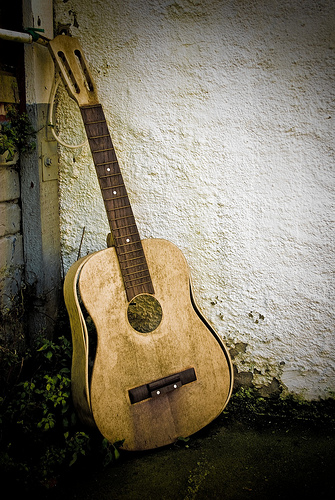guitar: (39, 21, 237, 456)
